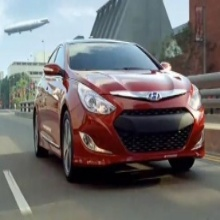no damage: (33, 38, 206, 181)
